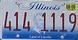placa de veiculo: (1, 0, 76, 40)
